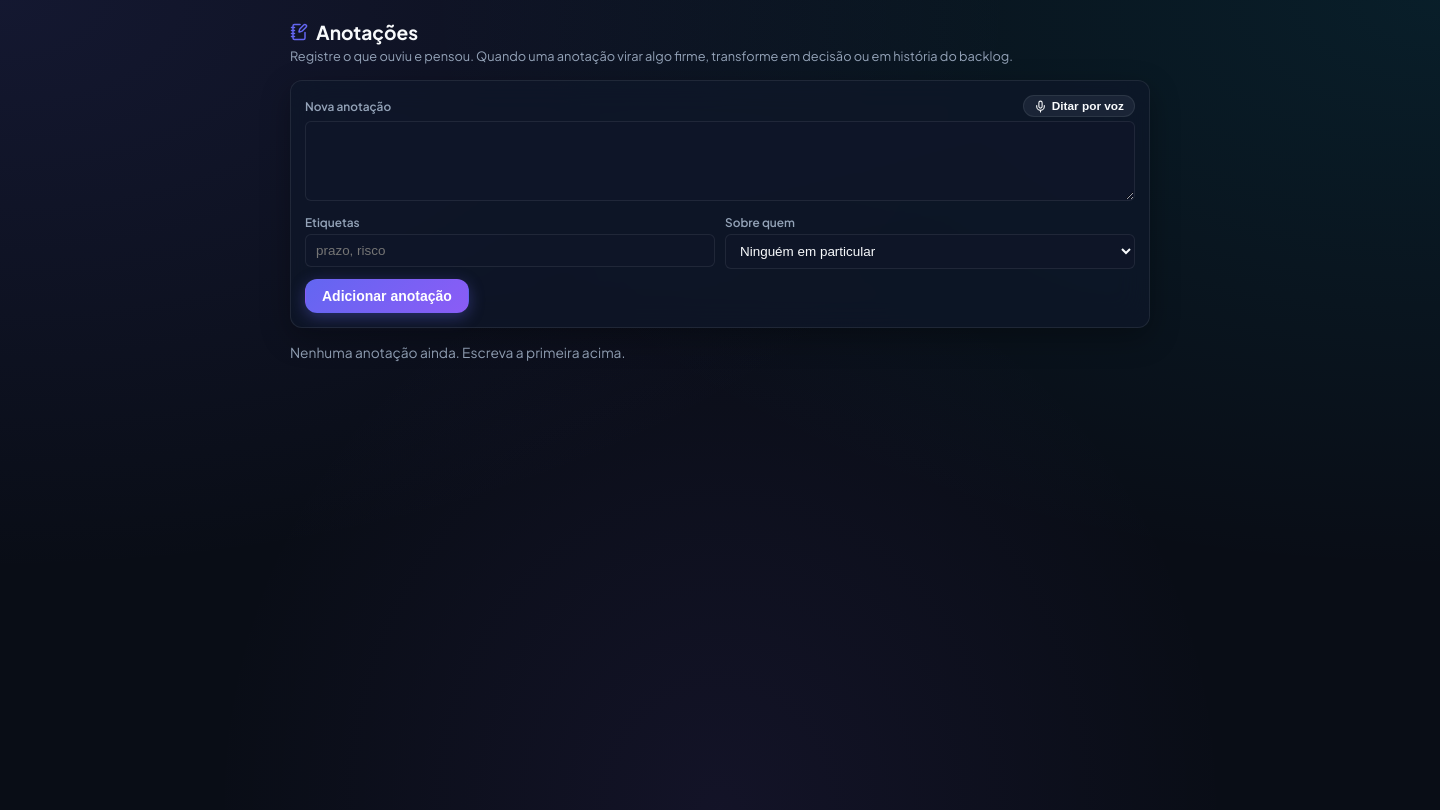
it: NotesView: ditado por voz › enquanto ouve, mostra o botão de parar e o texto parcial
Click the button "Ditar por voz" at (1079, 106), box left=1023, top=95, right=1135, bottom=117
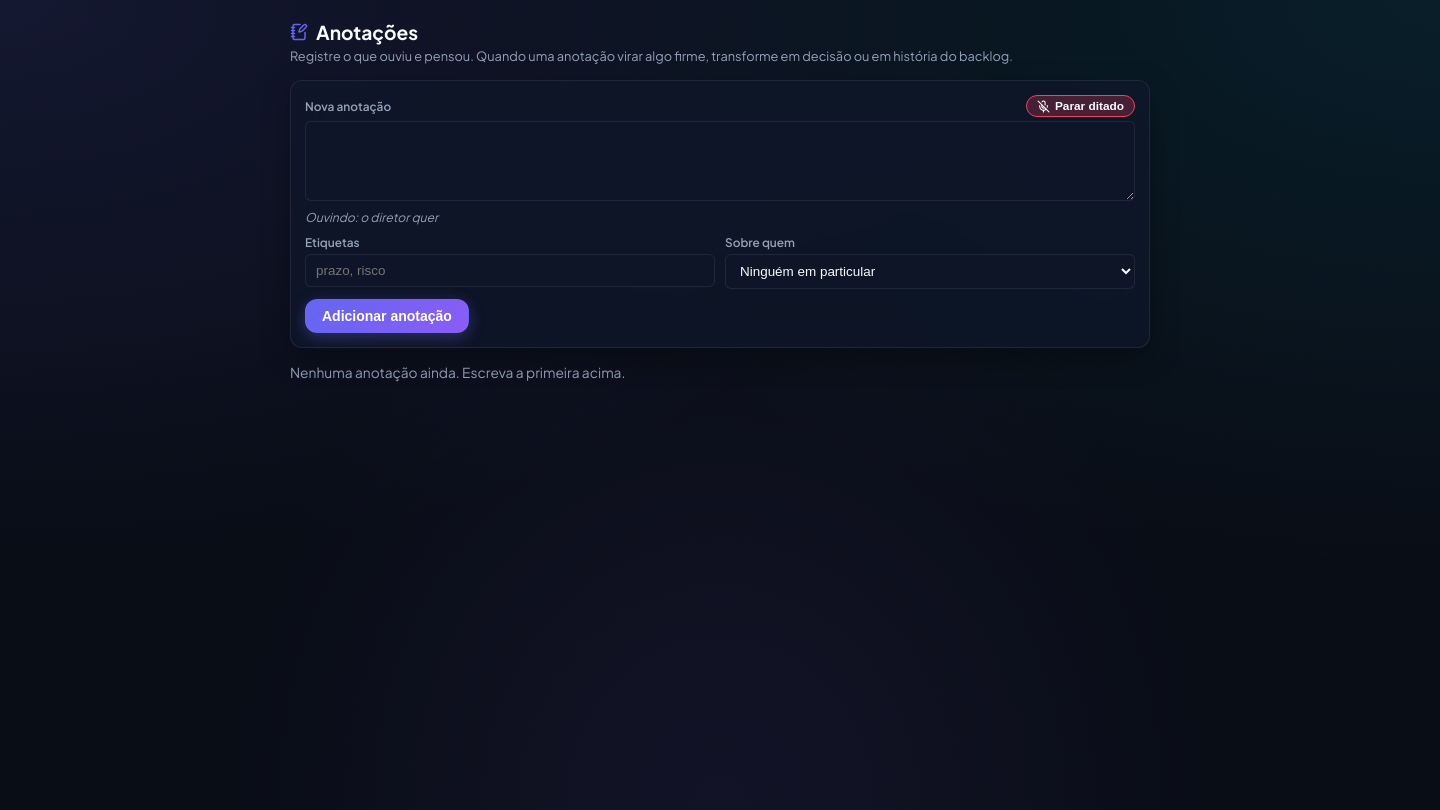
Expected: the text box labelled "Nova anotação" is empty, left=305, top=121, right=1135, bottom=201
Now the button "Parar ditado" is shown, box left=1026, top=95, right=1135, bottom=117
Now the text "Ouvindo: o diretor quer" is shown, box left=305, top=209, right=438, bottom=225
